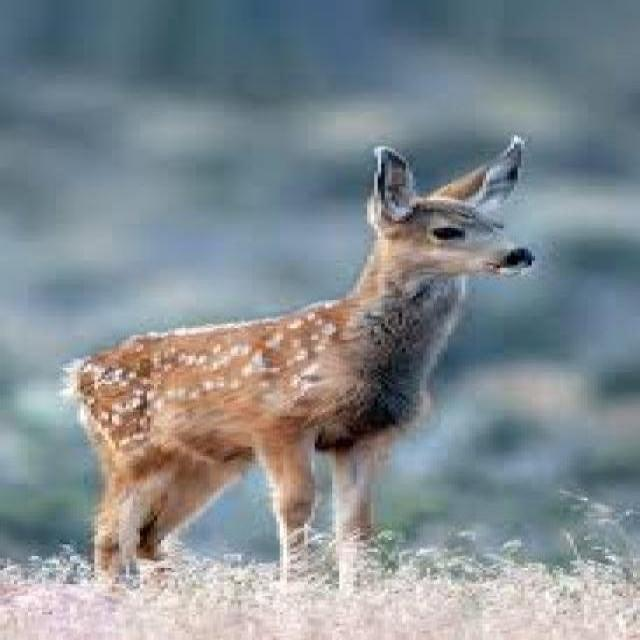deer: (75, 136, 523, 576)
